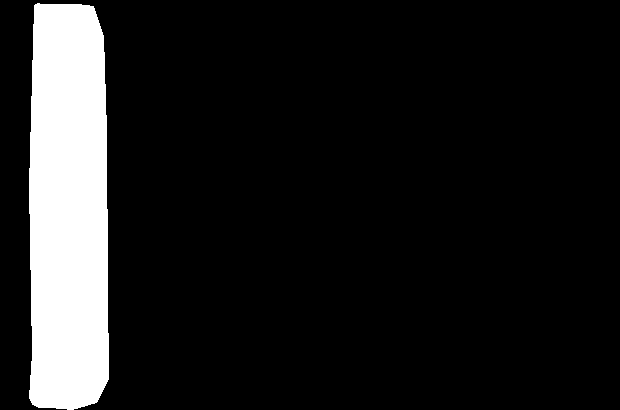type5: (25, 2, 110, 409)
